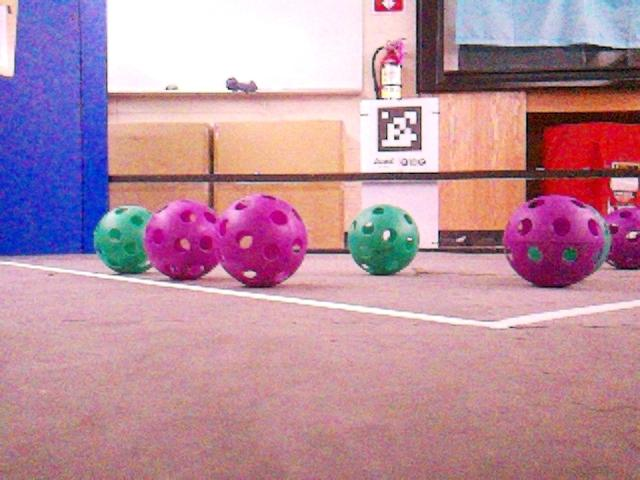Green: (346, 204, 420, 274), (91, 205, 154, 274)
Purple: (503, 194, 604, 286), (213, 193, 306, 285), (143, 199, 222, 279), (602, 206, 640, 270)
